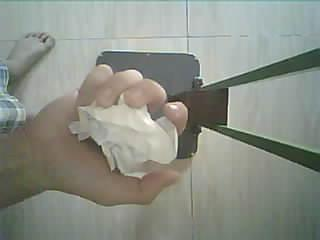paper: (69, 96, 178, 177)
